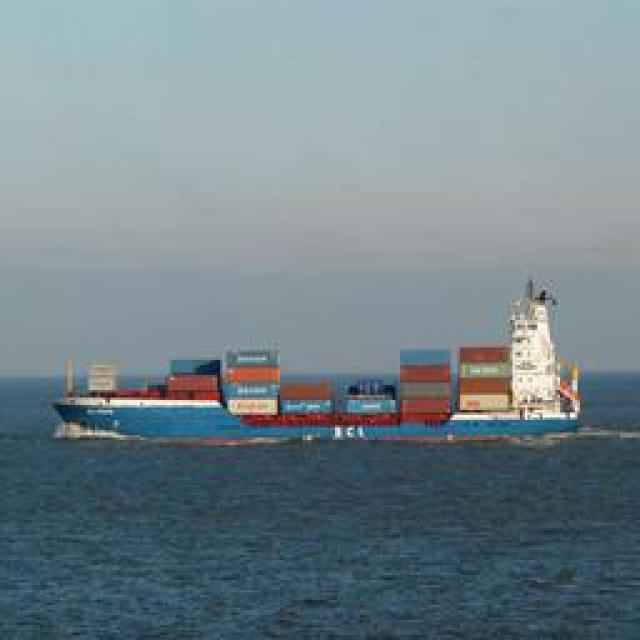Ship: (55, 339, 575, 444)
